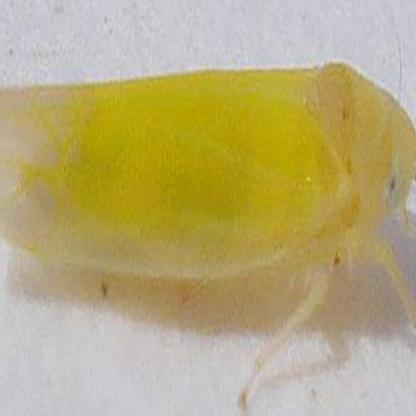green-leafhopper: (0, 64, 416, 413)
